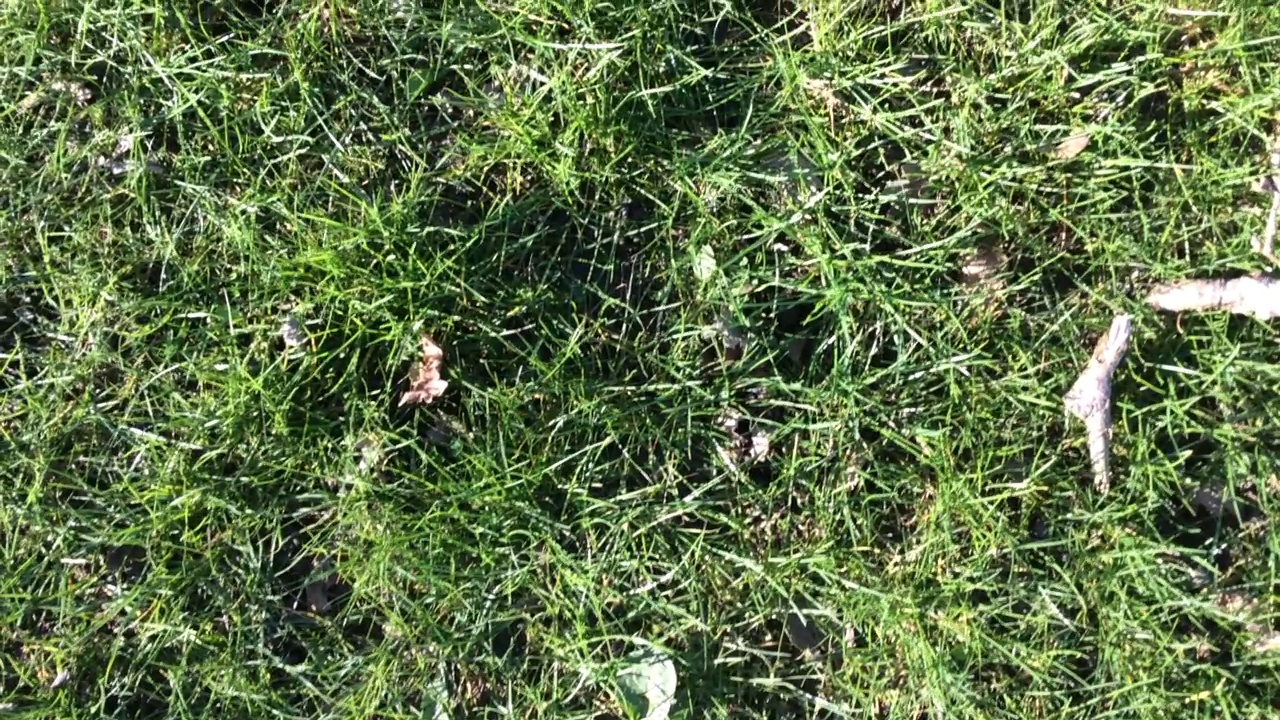rumex: (617, 654, 679, 714)
